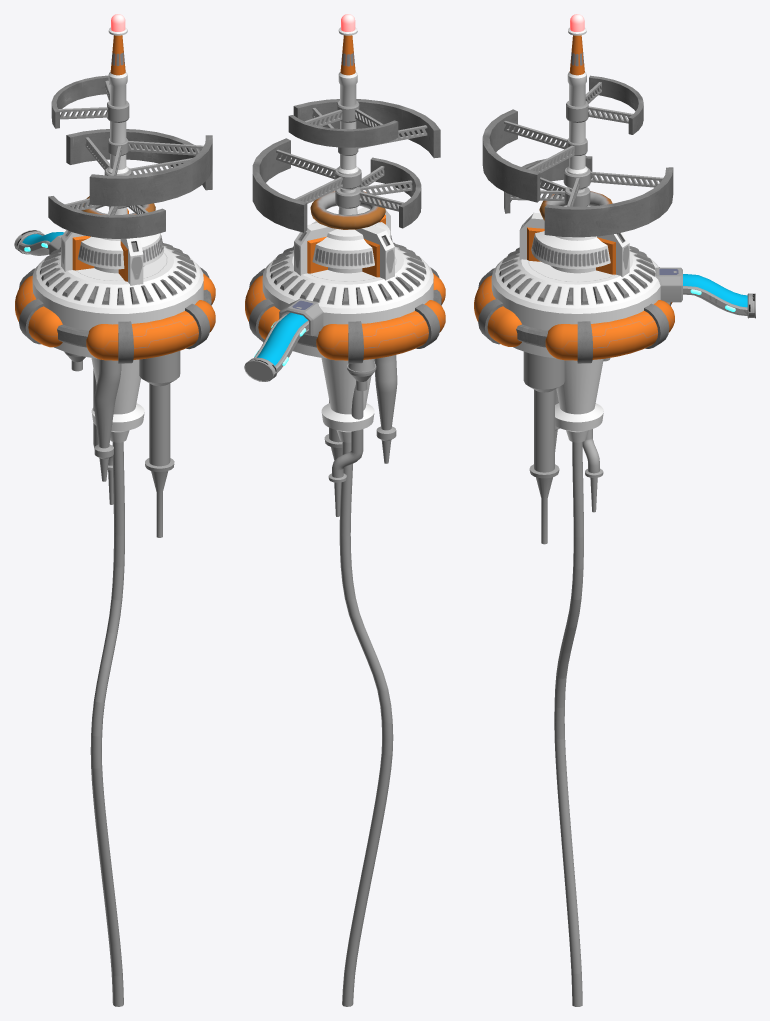
The model's file is Bubble extractor.fbx.
3 views of the same model, side by side, from view 1: azimuth 30°, elevation 25°; view 2: azimuth 150°, elevation 25°; view 3: azimuth 270°, elevation 25° (orthographic).
Visible parts, largest first — view 1: Cylinder.259, Cylinder.243, Icosphere.056, Cylinder.240, Cylinder.247, Cylinder.239, Cylinder.256, Cylinder.254, Cylinder.248, Icosphere.054, Cylinder.241, Cube.319 (+4 smaller); view 2: Cylinder.259, Cylinder.243, Icosphere.054, Cylinder.256, Cylinder.240, Cylinder.241, Cylinder.254, Cylinder.248, Cube.160, Torus.006, Cylinder.239, Icosphere.057 (+9 smaller); view 3: Cylinder.259, Cylinder.243, Icosphere.057, Cylinder.256, Cylinder.247, Cylinder.240, Cylinder.254, Icosphere.056, Cube.160, Cylinder.241, Cube.302, Cube.307 (+5 smaller).
Part boxes in pixels (box(x1,y1,x2,y2)): Cylinder.259: box(32, 233, 211, 442); Cylinder.243: box(90, 442, 124, 1006); Icosphere.056: box(86, 300, 215, 363); Cylinder.240: box(89, 135, 212, 206); Cylinder.247: box(139, 351, 180, 537); Cylinder.239: box(48, 196, 165, 238); Cylinder.256: box(66, 129, 212, 190); Cylinder.254: box(107, 14, 128, 214); Cylinder.248: box(93, 359, 121, 481); Icosphere.054: box(15, 268, 62, 347); Cylinder.241: box(51, 75, 109, 128); Cube.319: box(118, 237, 143, 285); Cylinder.259: box(262, 221, 441, 442); Cylinder.243: box(339, 442, 393, 1006); Icosphere.054: box(316, 300, 445, 363); Cylinder.256: box(252, 138, 307, 232); Cylinder.240: box(293, 99, 440, 158); Cylinder.241: box(288, 115, 398, 147); Cylinder.254: box(337, 14, 358, 214); Cylinder.248: box(374, 355, 397, 463); Cube.160: box(254, 312, 308, 372); Torus.006: box(310, 191, 385, 229); Cylinder.239: box(370, 157, 421, 228); Icosphere.057: box(245, 268, 280, 342); Cylinder.259: box(491, 231, 670, 442); Cylinder.243: box(554, 442, 583, 1006); Icosphere.057: box(545, 300, 674, 363); Cylinder.256: box(544, 167, 673, 237); Cylinder.247: box(523, 351, 565, 544); Cylinder.240: box(482, 109, 540, 202); Cylinder.254: box(566, 14, 587, 193); Icosphere.056: box(474, 268, 521, 346); Cube.160: box(683, 274, 747, 315); Cylinder.241: box(589, 75, 643, 134); Cube.302: box(596, 232, 629, 277); Cube.307: box(655, 267, 682, 302).
Size of the model in its own units: 1091 by 5588 by 1442.
